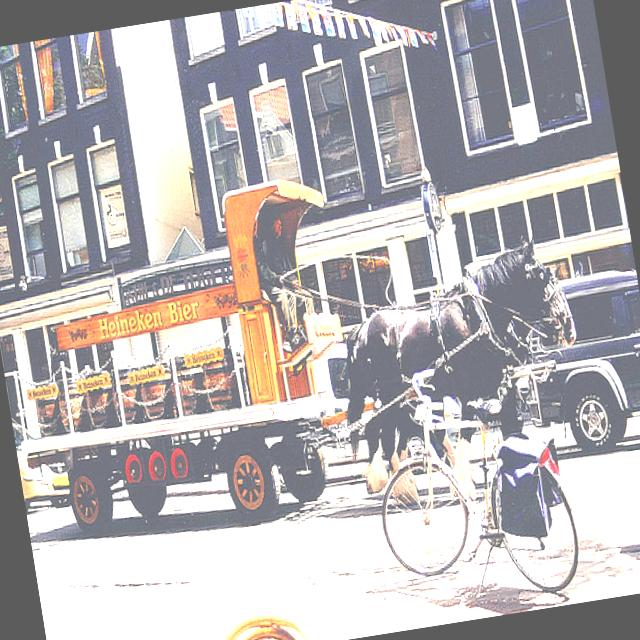Vehicle: (505, 265, 640, 465), (11, 403, 74, 512)
